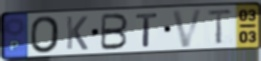B: (99, 13, 130, 51)
K: (64, 15, 89, 52)
O: (29, 15, 61, 55)
T: (206, 8, 235, 46), (135, 11, 160, 48)
V: (170, 7, 206, 50)
